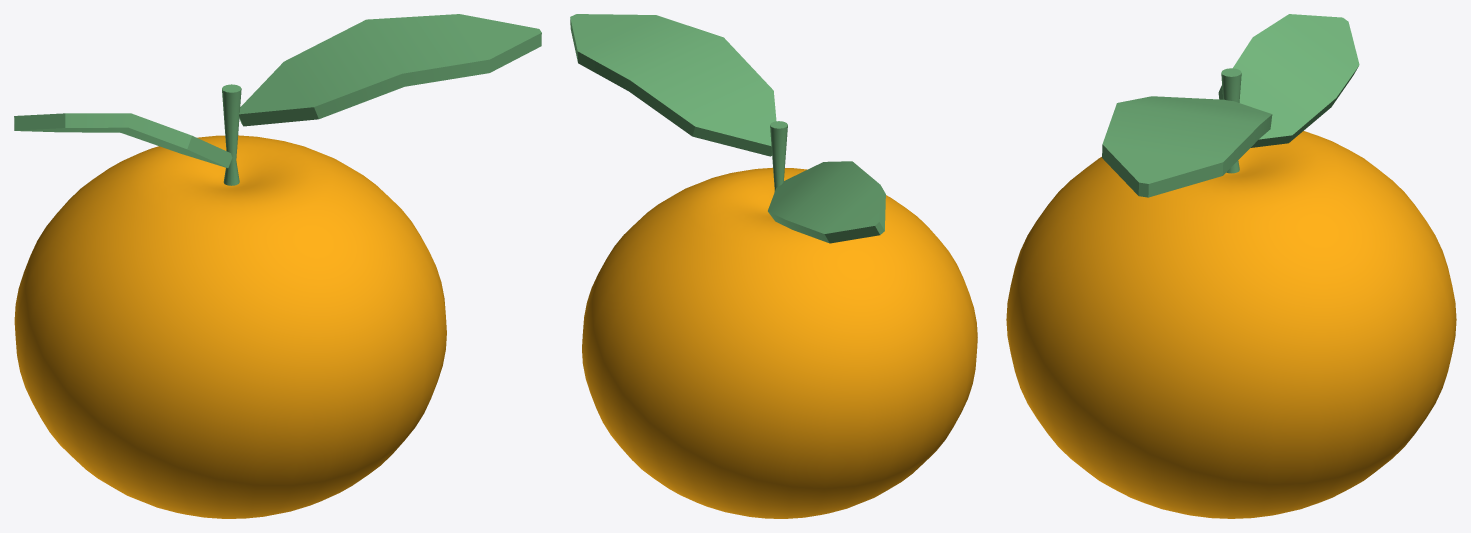
Rendered from orange.fbx.
3 renders of one model, left to right at view 1: azimuth 30°, elevation 25°; view 2: azimuth 150°, elevation 25°; view 3: azimuth 270°, elevation 25°, orthographic. The views are drawn at different scales.
Parts seen in each view (by area): view 1: Sphere, leaf.008, stem.001; view 2: Sphere, leaf.008, stem.001; view 3: Sphere, leaf.008, stem.001.
Boxes of the visible parts, <box> form: Sphere: <box>14,135,446,518</box>; leaf.008: <box>14,14,541,168</box>; stem.001: <box>222,84,241,185</box>; Sphere: <box>582,167,977,518</box>; leaf.008: <box>570,14,885,243</box>; stem.001: <box>770,121,787,191</box>; Sphere: <box>1006,131,1456,518</box>; leaf.008: <box>1102,14,1359,197</box>; stem.001: <box>1221,68,1241,173</box>.
Bounding box in the file's own units: 18.77 × 15.43 × 17.07.
Materials: 1 (1 with a texture image).
